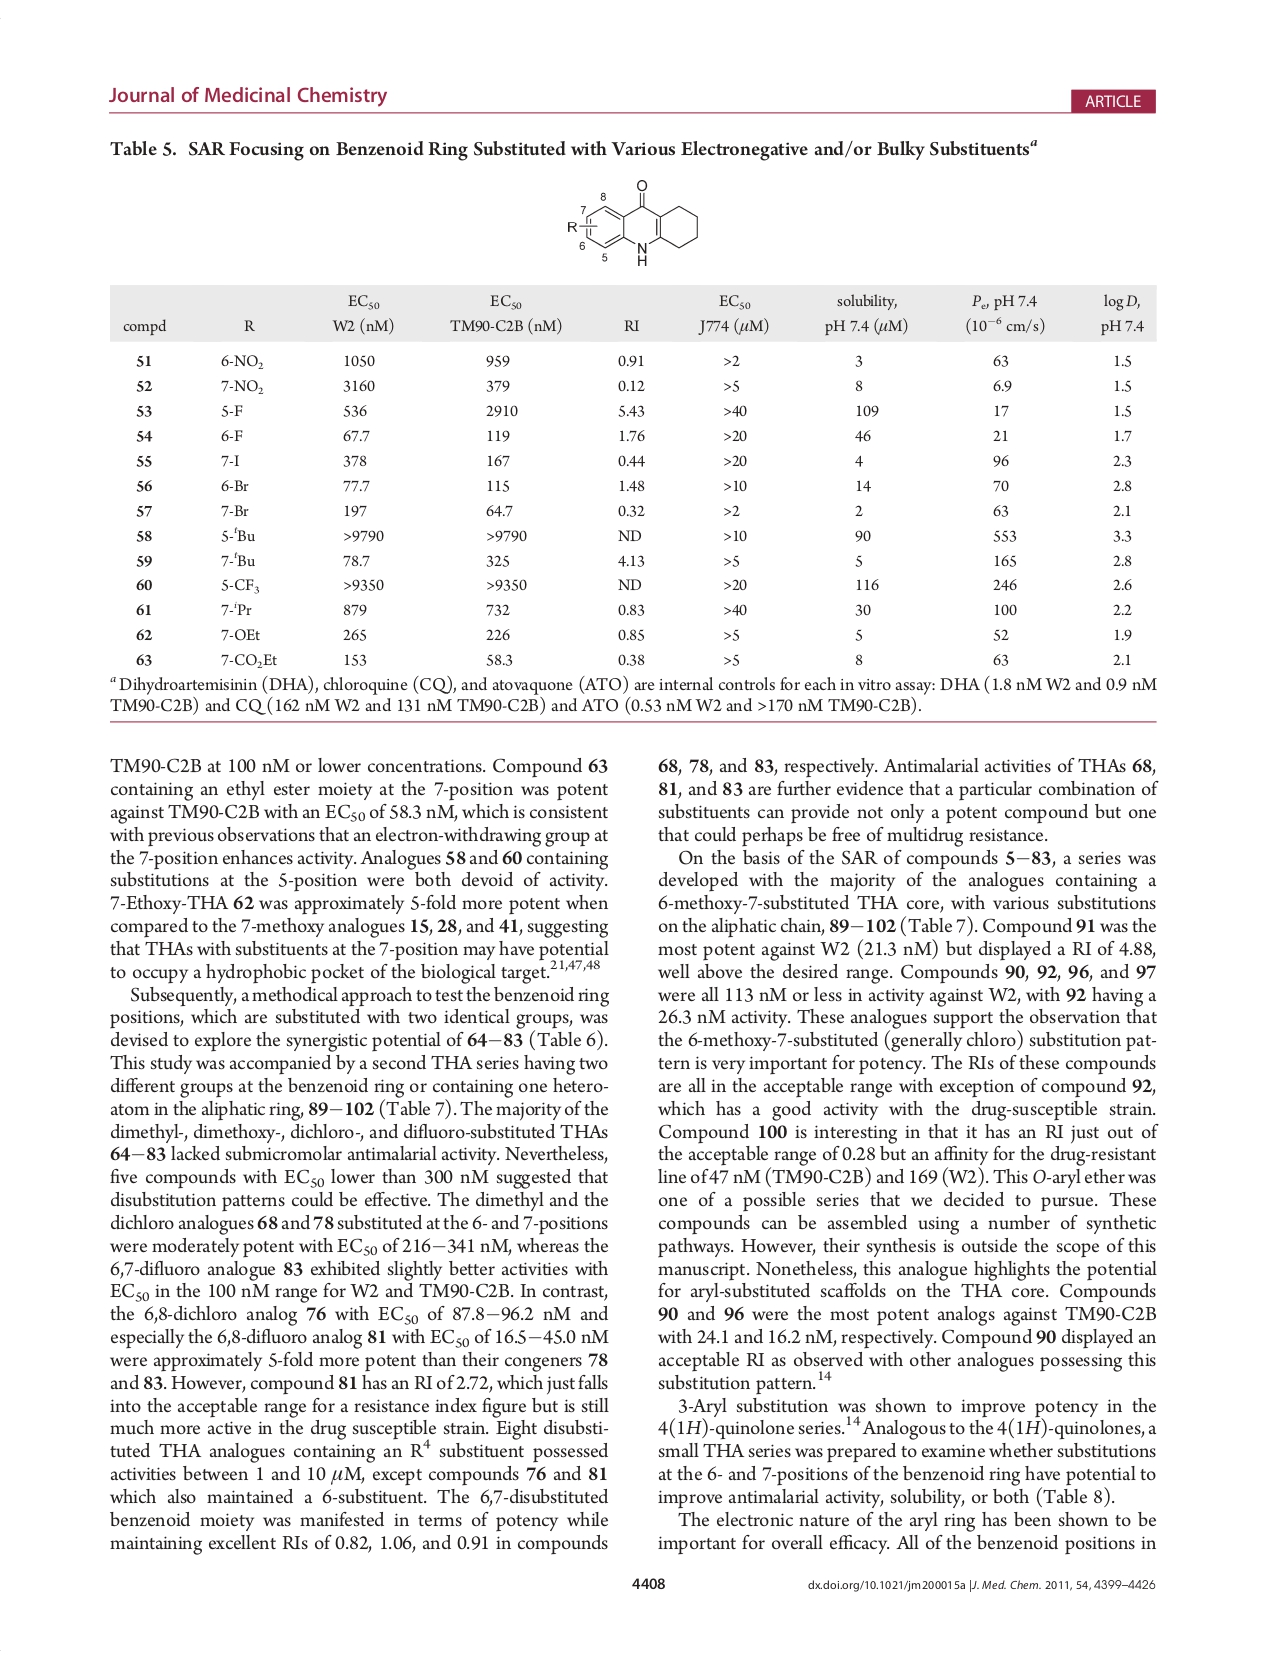exist_molecular: (564, 176, 702, 267)
